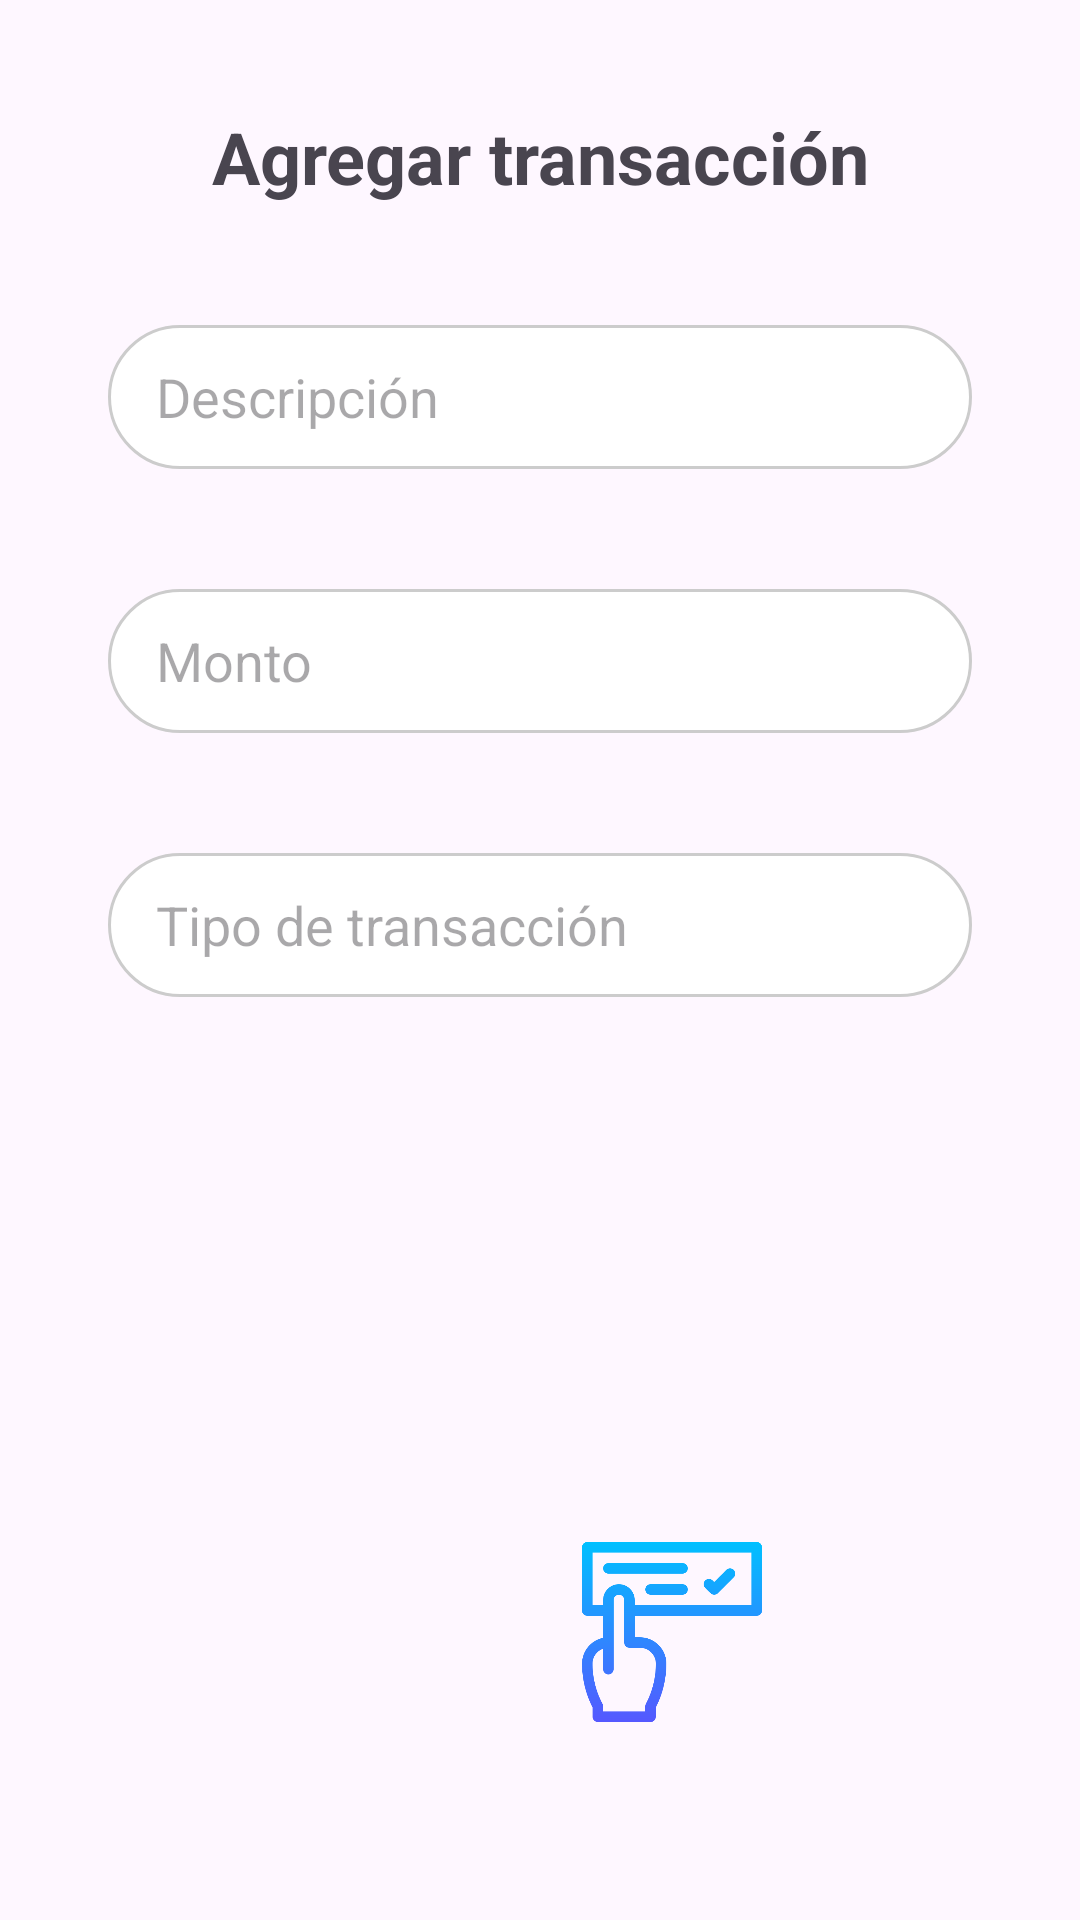

Screen size 1080*1920. Icon name, then its center in pixels as (x,y):
Aceptar: (672,1632)
